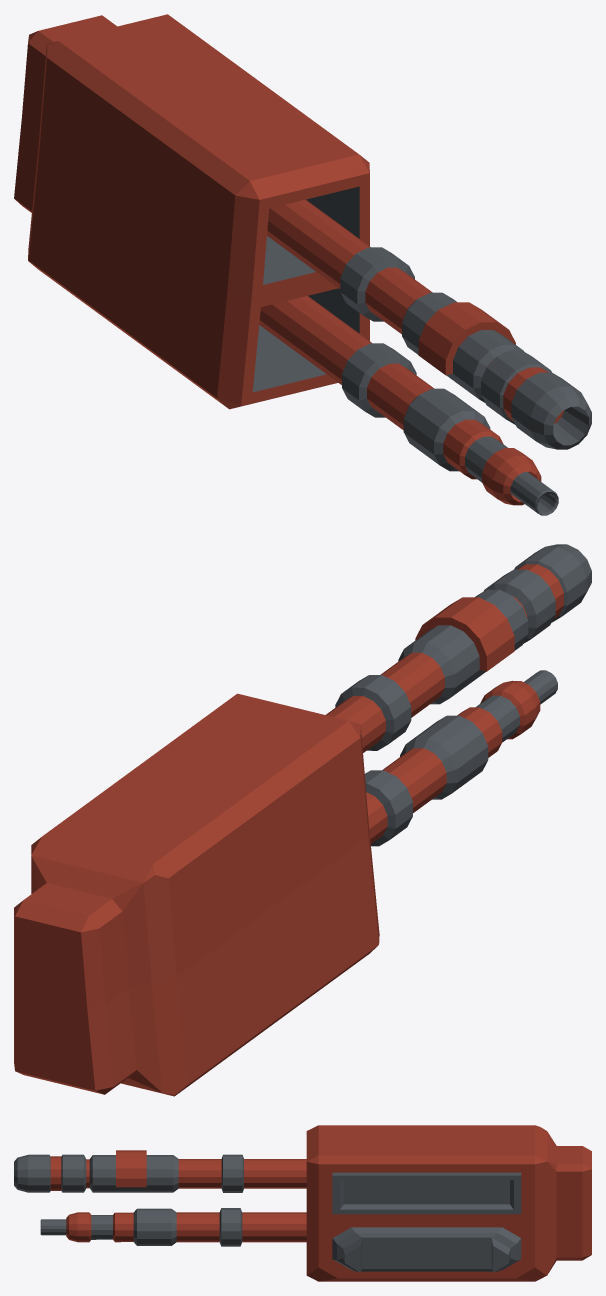
File: Fighter_05_Artillery_Left_Red.fbx
3 renders of one model, top to bottom at view 1: azimuth 30°, elevation 25°; view 2: azimuth 150°, elevation 25°; view 3: azimuth 270°, elevation 25°, orthographic. The views are drawn at different scales.
Parts seen in each view (by area): view 1: Fighter_05_Artillery_Left_Red; view 2: Fighter_05_Artillery_Left_Red; view 3: Fighter_05_Artillery_Left_Red.
Part boxes in pixels (box(x1,y1,x2,y2)): Fighter_05_Artillery_Left_Red: box(14, 14, 591, 515); Fighter_05_Artillery_Left_Red: box(14, 544, 591, 1096); Fighter_05_Artillery_Left_Red: box(14, 1125, 591, 1281).
Bounding box in the file's own units: 155 × 175 × 726.
Materials: 2 (2 with a texture image).
